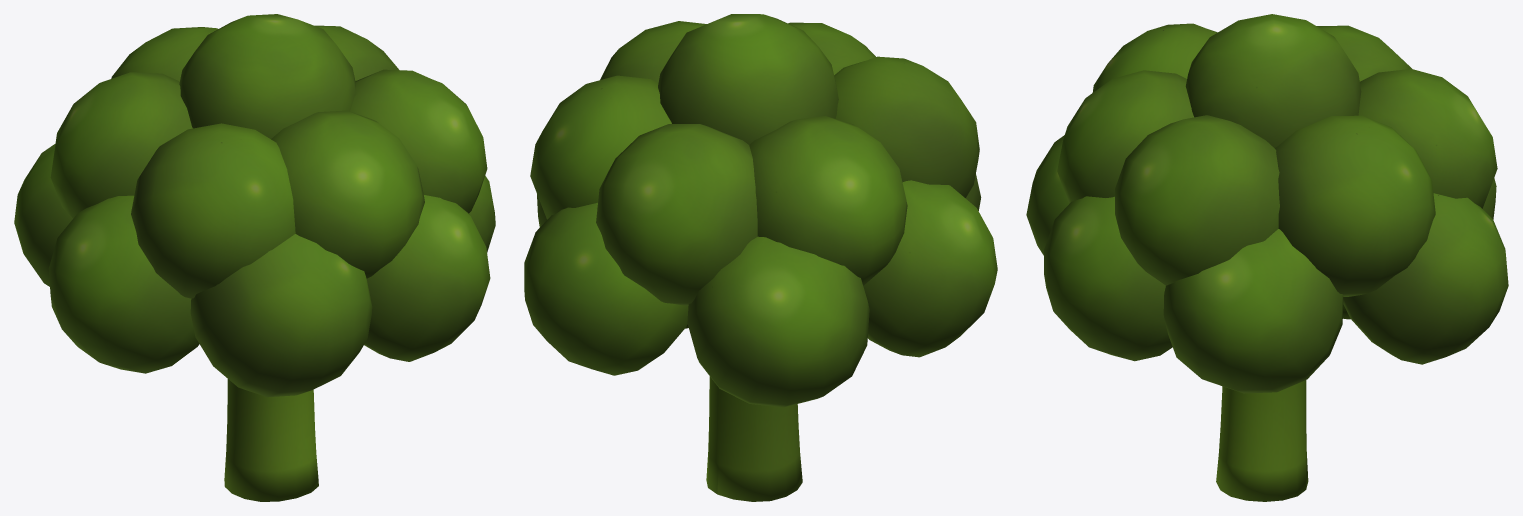
Rendered from food_moss.fbx.
3 views of the same model, side by side, from view 1: azimuth 30°, elevation 25°; view 2: azimuth 150°, elevation 25°; view 3: azimuth 270°, elevation 25° (orthographic).
Visible parts, largest first — view 1: Object002; view 2: Object002; view 3: Object002.
Part boxes in pixels (x1,y1,x2,y2): Object002: (14,14,495,501); Object002: (524,14,997,501); Object002: (1026,14,1508,501).
Size of the model in its own units: 13.74 by 14.04 by 13.36.
